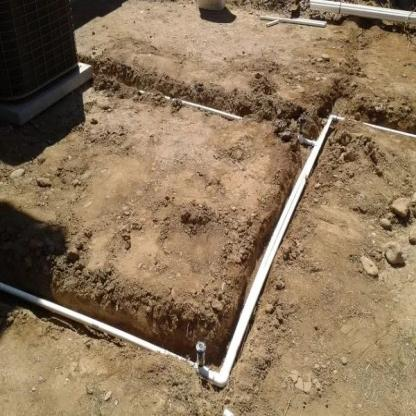PVC: (0, 115, 415, 388)
